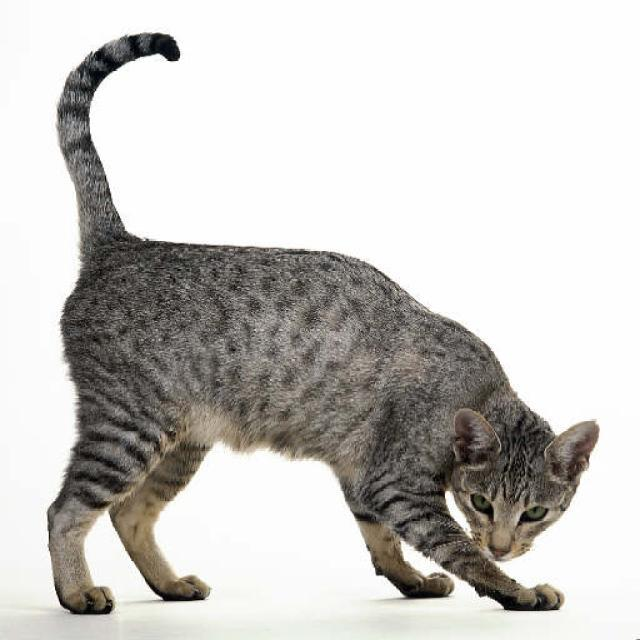Egyptian_Mau: (452, 407, 597, 560)
